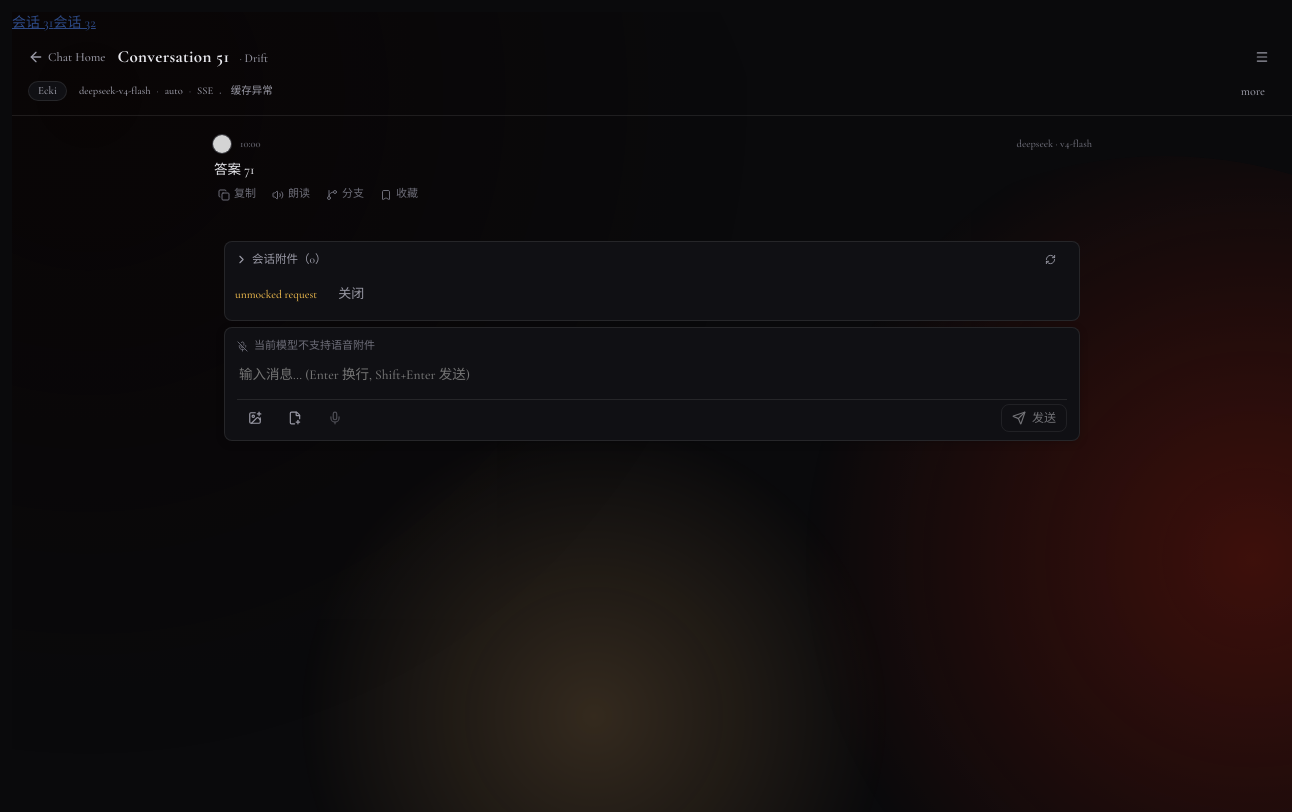
Test case: P2T CP3 — isolation, recovery and chat operability (T10) › treats cached voice lazily and accepts exactly one POST on click
The image size is (1292, 812).
Step 1. Click the button with aria-label "朗读此条消息" → click(291, 195), box [266,184,316,205]
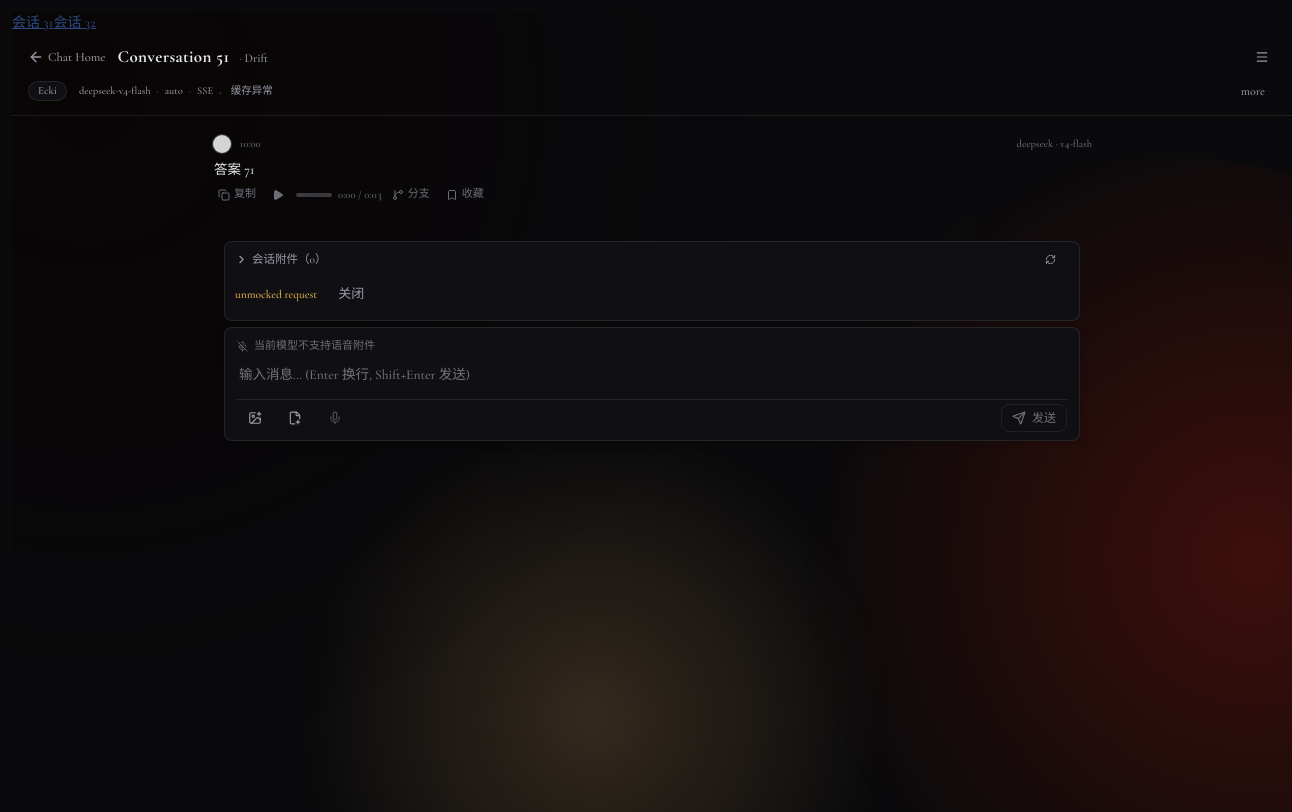
Result: the button named "播放朗读" is shown at [266,186,290,202]
